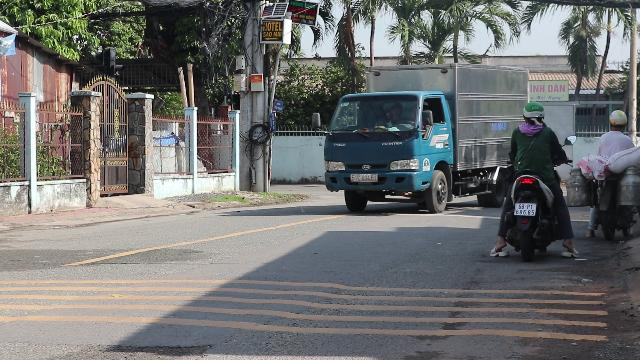helmet: (521, 100, 545, 124), (608, 108, 628, 130)
licenseplate: (514, 202, 536, 216)
motorcyclist: (493, 100, 575, 260), (588, 108, 640, 240)
